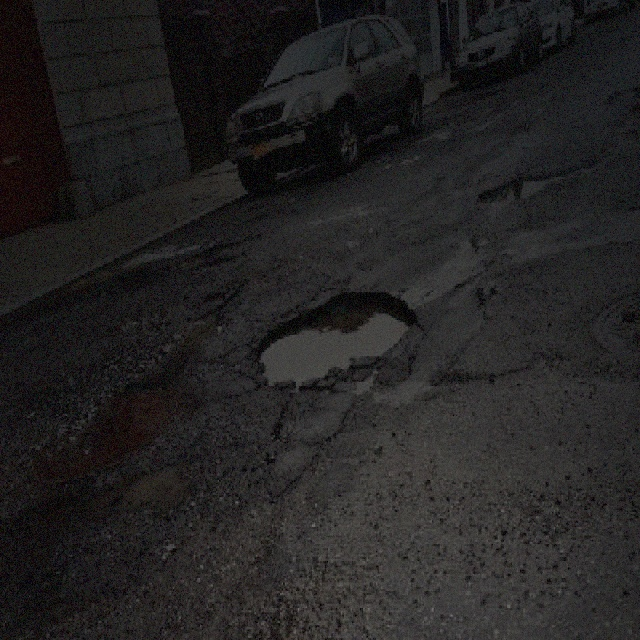pothole: (256, 286, 421, 392), (82, 456, 196, 520), (162, 230, 256, 273), (476, 173, 550, 207)
